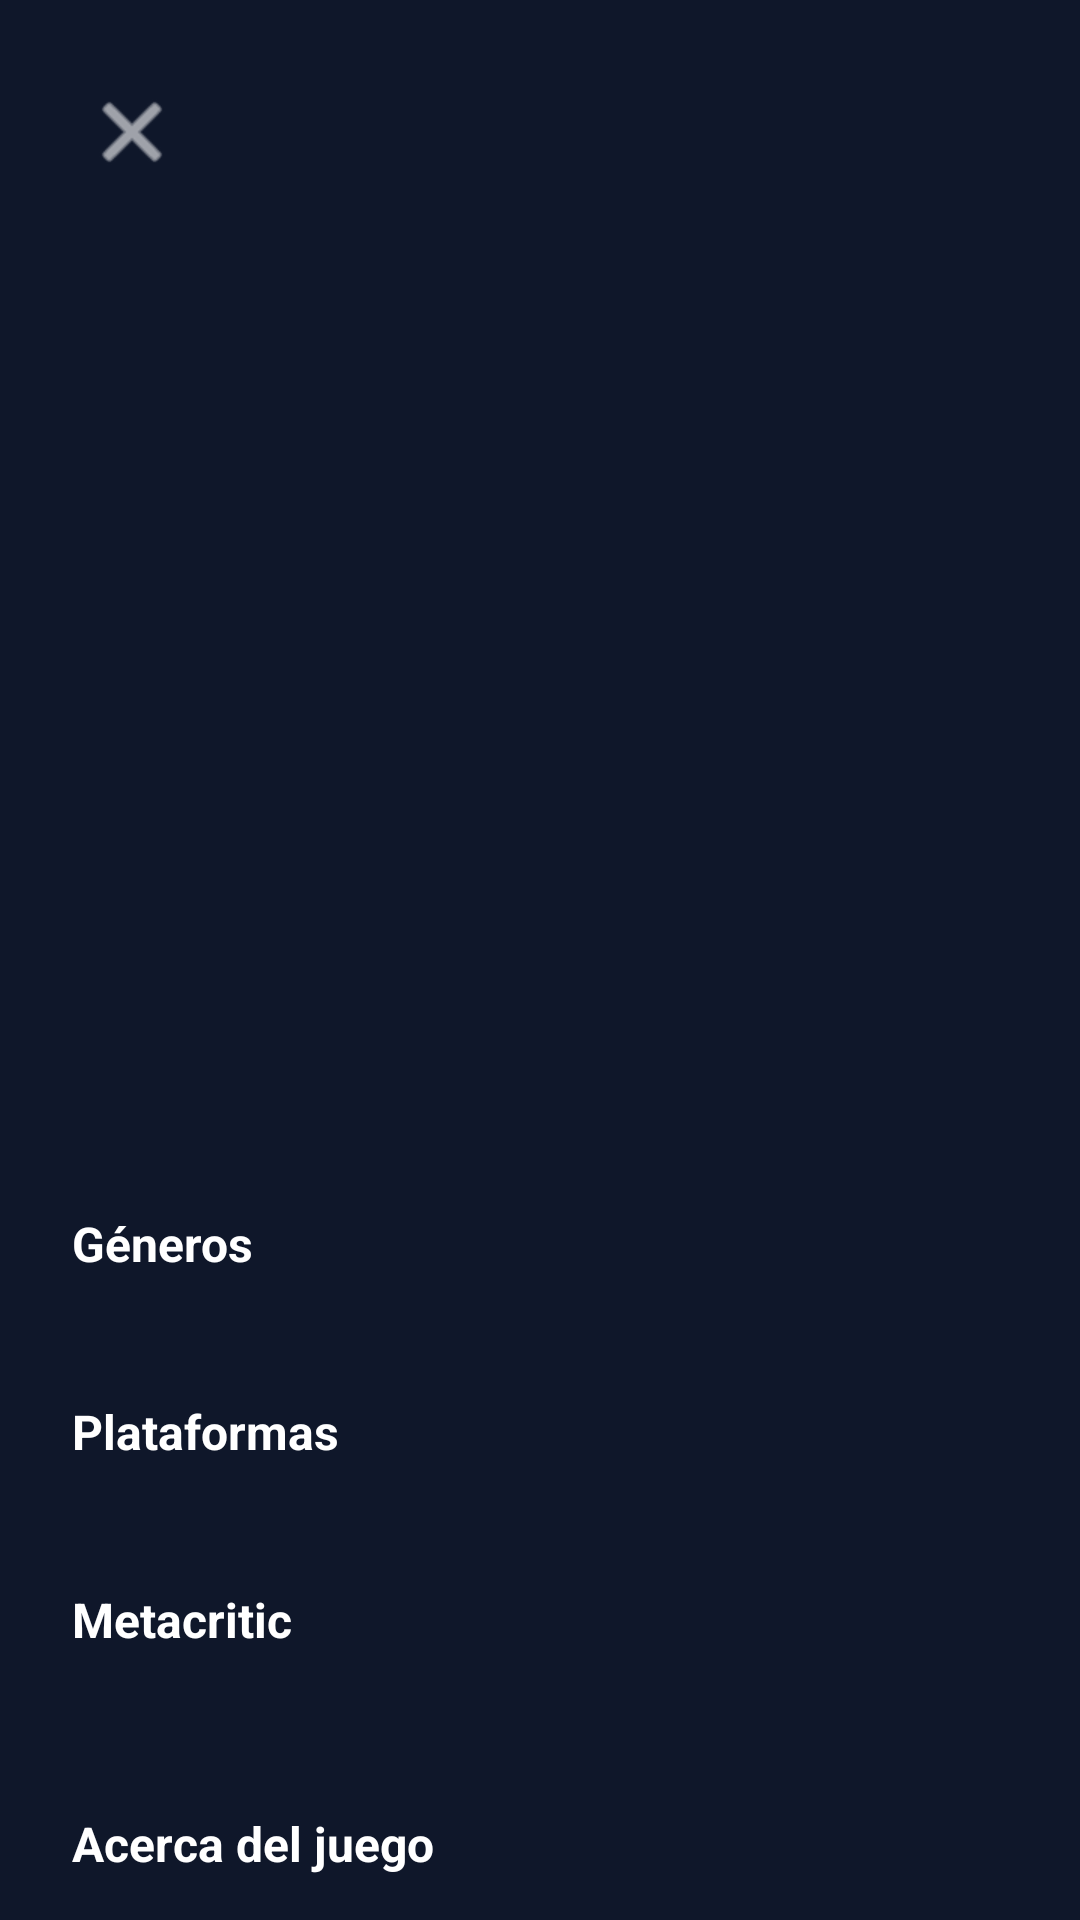

Icons on this 1080x1920 Android screen, each with the point to tap as (x=x, y=y):
close clear cancel: (x=132, y=132)
